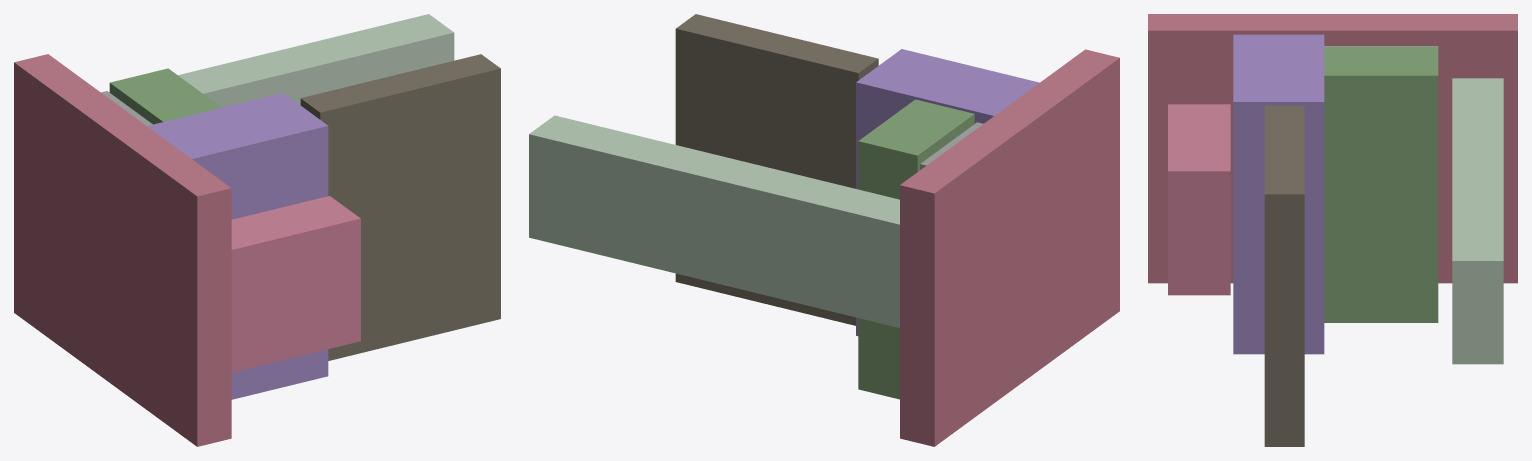
The picture shows the model from 3 angles, left to right: view 1: azimuth 30°, elevation 25°; view 2: azimuth 150°, elevation 25°; view 3: azimuth 270°, elevation 25°; orthographic projection.
Parts seen in each view (by area): view 1: world; view 2: world; view 3: world.
Part boxes in pixels (x1,y1,x2,y2): world: [14, 14, 500, 446]; world: [529, 14, 1119, 446]; world: [1148, 14, 1517, 446].
Size of the model in its own units: 8.35 by 4.95 by 6.5.
